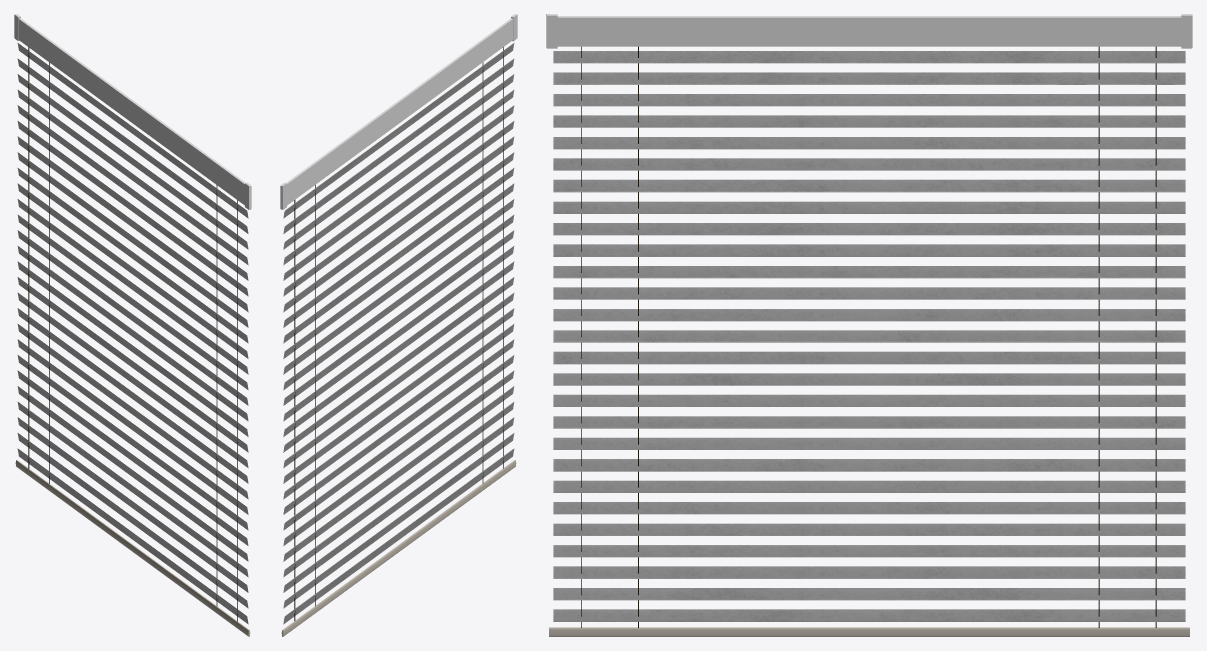
Rendered from store-2-draco.glb.
3 views of the same model, side by side, from view 1: azimuth 30°, elevation 25°; view 2: azimuth 150°, elevation 25°; view 3: azimuth 270°, elevation 25° (orthographic). The views are drawn at different scales.
Visible parts, largest first — view 1: Blinds; view 2: Blinds; view 3: Blinds.
Part boxes in pixels (x1,y1,x2,y2): Blinds: (14, 14, 251, 636); Blinds: (280, 14, 517, 636); Blinds: (546, 14, 1192, 636).
Bounding box in the file's own units: 0.0128 × 2.22 × 2.09.
1 material, 1 textured.
